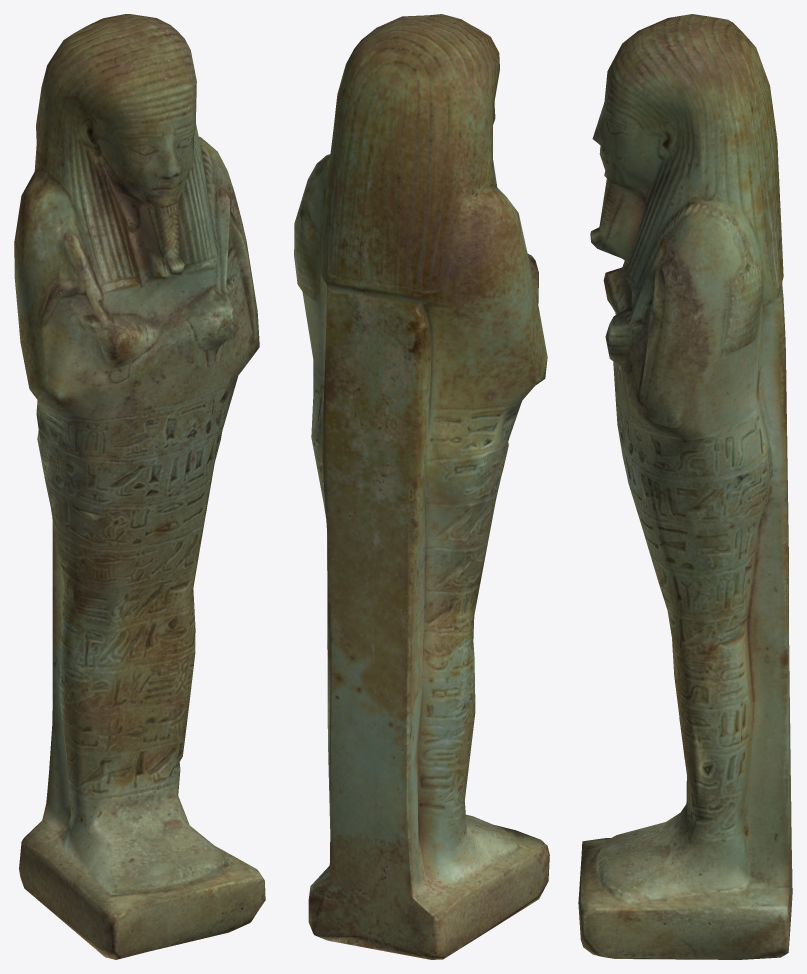
The model's file is Ushabti_Figures_2.fbx.
3 renders of one model, left to right at view 1: azimuth 30°, elevation 25°; view 2: azimuth 150°, elevation 25°; view 3: azimuth 270°, elevation 25°, orthographic.
Parts seen in each view (by area): view 1: Ushabti_Figures_2_LOD0; view 2: Ushabti_Figures_2_LOD0; view 3: Ushabti_Figures_2_LOD0.
Boxes of the visible parts, x1,y1,x2,y2 form: Ushabti_Figures_2_LOD0: (14,14,265,959); Ushabti_Figures_2_LOD0: (294,14,549,959); Ushabti_Figures_2_LOD0: (578,14,792,959).
Size of what is drawn, in the model's own units: 52.39 by 199 by 42.97.
